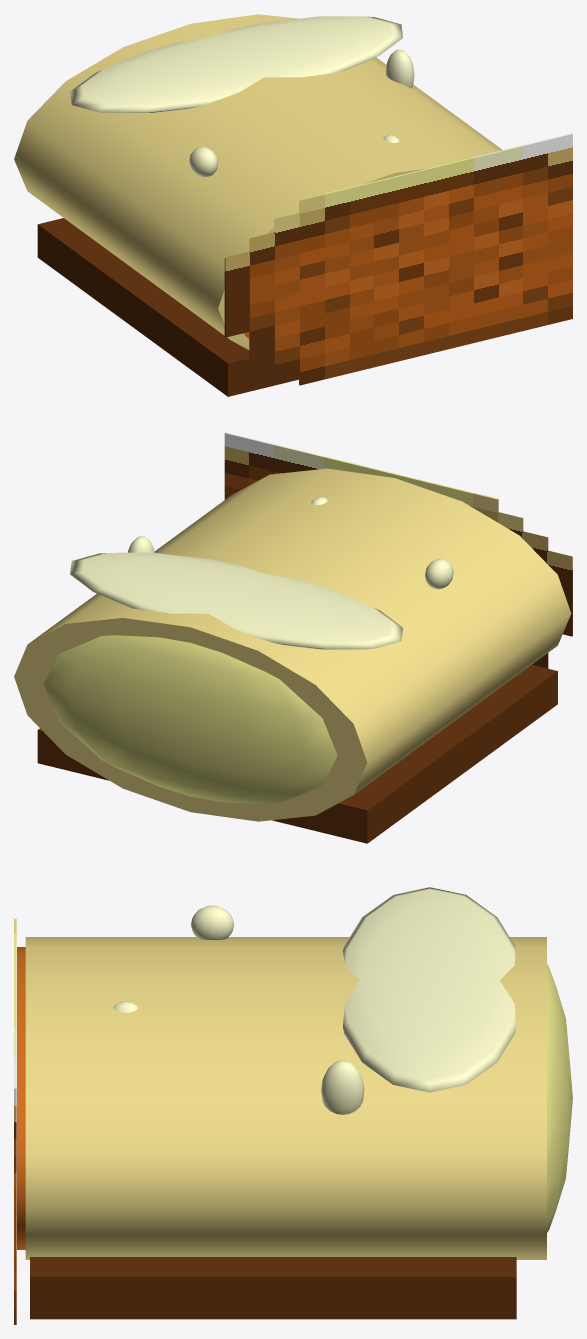
Rendered from CMU3DBakedBreadBanana.glb.
The picture shows the model from 3 angles, top to bottom: view 1: azimuth 30°, elevation 25°; view 2: azimuth 150°, elevation 25°; view 3: azimuth 270°, elevation 25°; orthographic projection. The views are drawn at different scales.
Parts seen in each view (by area): view 1: rounded loaf crust vault, original cut crumb and filling, pale banana icing crown, flat crust sole, icing drip 3, icing drip 1; view 2: rounded loaf crust vault, rounded rear heel, pale banana icing crown, flat crust sole, original cut crumb and filling, icing drip 1; view 3: rounded loaf crust vault, flat crust sole, pale banana icing crown, rounded rear heel, solid cut crumb end, icing drip 3, icing drip 1, original cut crumb and filling.
Boxes of the visible parts, x1,y1,x2,y2 form: rounded loaf crust vault: [14, 14, 502, 349]; original cut crumb and filling: [224, 133, 572, 385]; pale banana icing crown: [70, 16, 402, 112]; flat crust sole: [37, 218, 298, 396]; icing drip 3: [385, 49, 414, 88]; icing drip 1: [189, 146, 217, 177]; rounded loaf crust vault: [14, 468, 571, 821]; rounded rear heel: [44, 635, 337, 804]; pale banana icing crown: [70, 552, 402, 649]; flat crust sole: [37, 665, 557, 843]; original cut crumb and filling: [224, 432, 572, 668]; icing drip 1: [425, 558, 453, 589]; rounded loaf crust vault: [25, 937, 546, 1259]; flat crust sole: [30, 1257, 516, 1319]; pale banana icing crown: [343, 887, 516, 1092]; rounded rear heel: [547, 964, 572, 1232]; solid cut crumb end: [17, 947, 25, 1249]; icing drip 3: [321, 1060, 364, 1114]; icing drip 1: [190, 905, 233, 939]; original cut crumb and filling: [14, 918, 16, 1324].
Bounding box in the file's own units: 0.6 × 0.306 × 0.6435.
6 materials, 1 textured.
